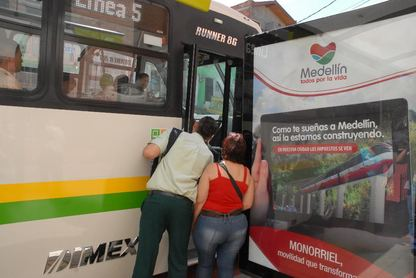bus: (0, 0, 263, 278)
